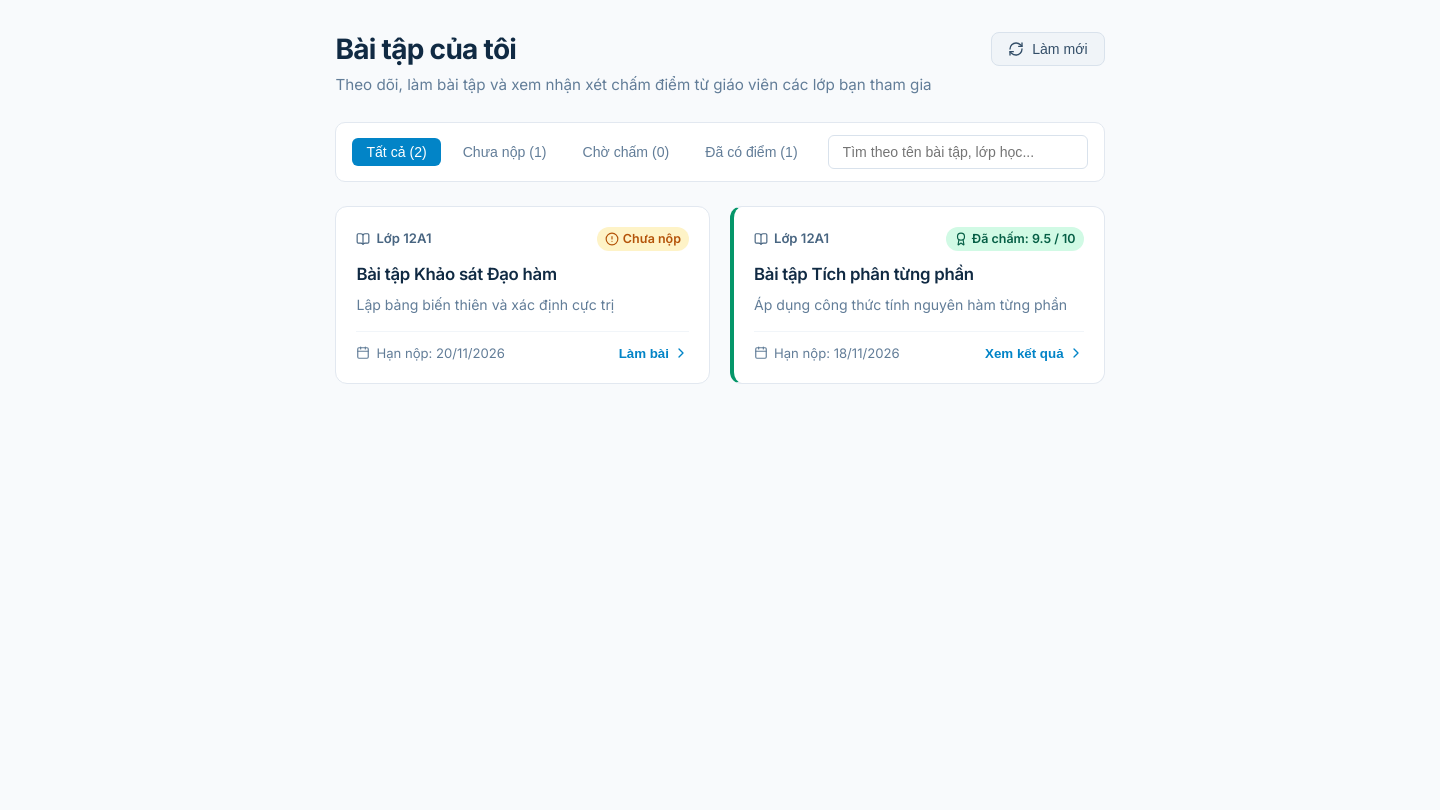
Test: LearnerAssignmentsPage UI Suite › displays teacher feedback and score when viewing graded assignment
The width and height of the screenshot is (1440, 810).
Expected: the heading "Bài tập Tích phân từng phần" is shown, [754,264,974,284]
Click graded card action button
Click the button "Xem kết quả" at (1034, 354), box [985,346,1084,362]
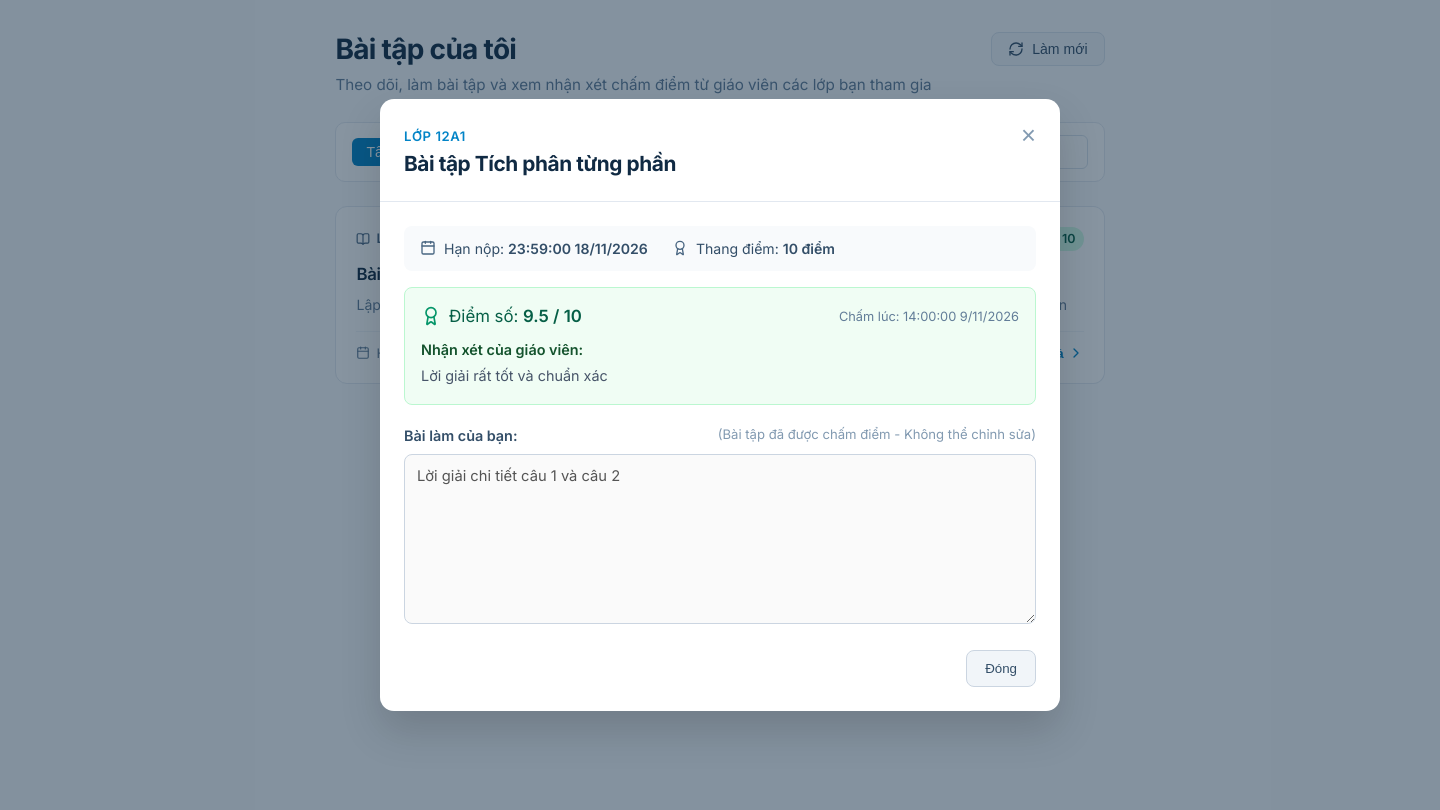
Expected: the text "Điểm số: 9.5 / 10" is shown, [449,304,582,329]
Expected: the text "Lời giải rất tốt và chuẩn xác" is shown, [421,367,608,384]
Expected: the text "(Bài tập đã được chấm điểm - Không thể chỉnh sửa)" is shown, [718,425,1036,446]
